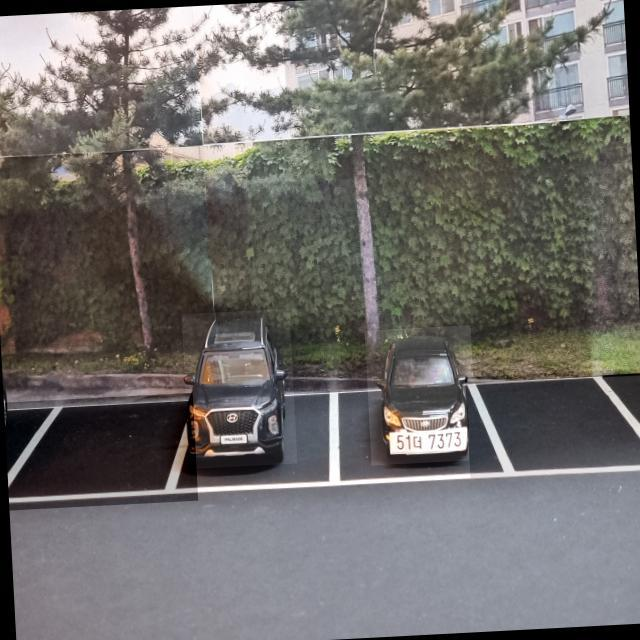empty: (4, 393, 198, 510), (465, 368, 640, 478)
occupied: (182, 309, 298, 469), (365, 325, 477, 466)
